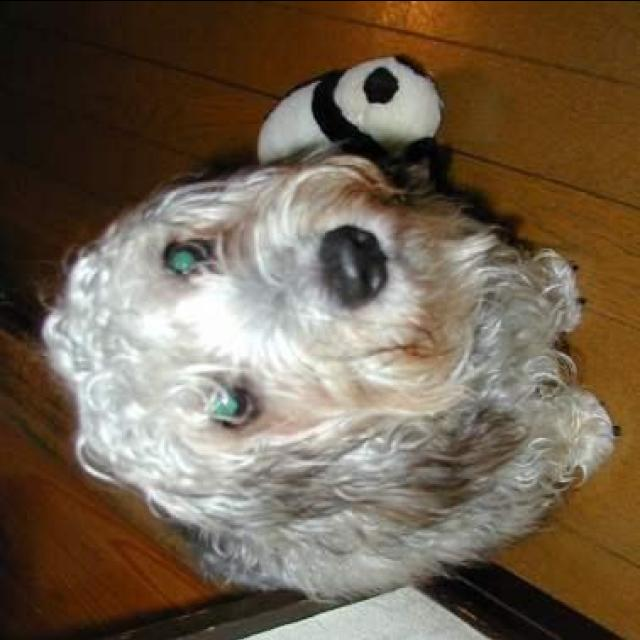dandie_dinmont: (44, 152, 620, 599)
